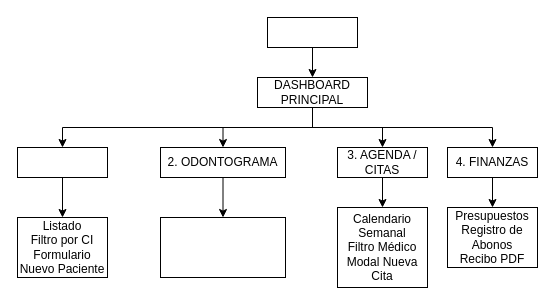
The diagram is 555 pixels wide and 305 high, and some of its shapes have lost their labels. Each missing label, with the centre of its shape:
"1. PACIENTES" goes at (62,162).
"Búsqueda de Paciente Visor SVG (32 piezas) Menú por Cara Dental Guardar Snapshot" goes at (223,247).
"Login / Inicio" goes at (312,32).
